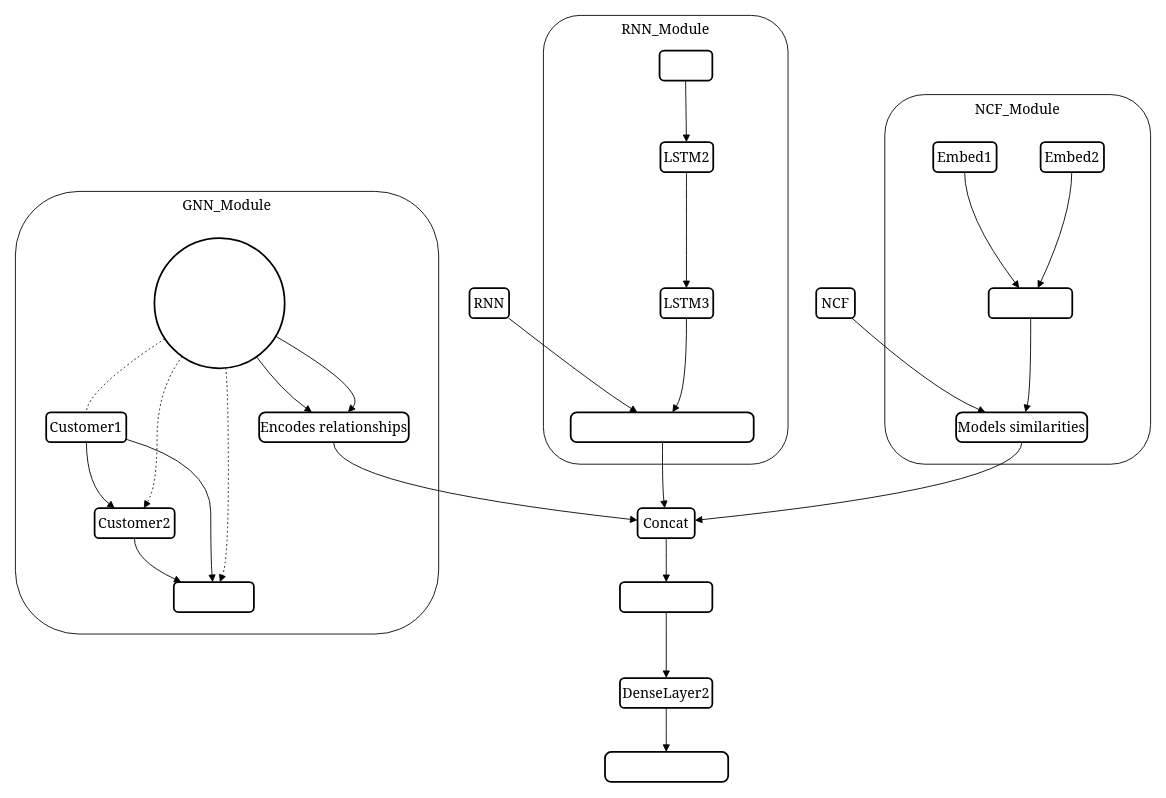
Image size: 1166x798. Some labels were removed from this diagram. Here are the shapes that lost their labels. From the top down, the centre of each, then its label:
At pixel 685 65: "LSTM1".
At pixel 219 303: "Graph Convolution".
At pixel 1030 303: "DotProduct".
At pixel 661 427: "Encodes temporal patterns".
At pixel 213 596: "Customer3".
At pixel 666 596: "DenseLayer1".
At pixel 666 766: "Churn Probability".
